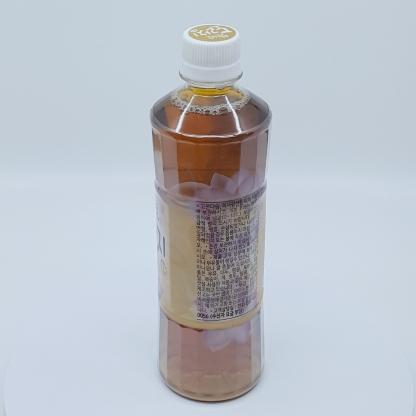------------500ML: (149, 24, 272, 403)
